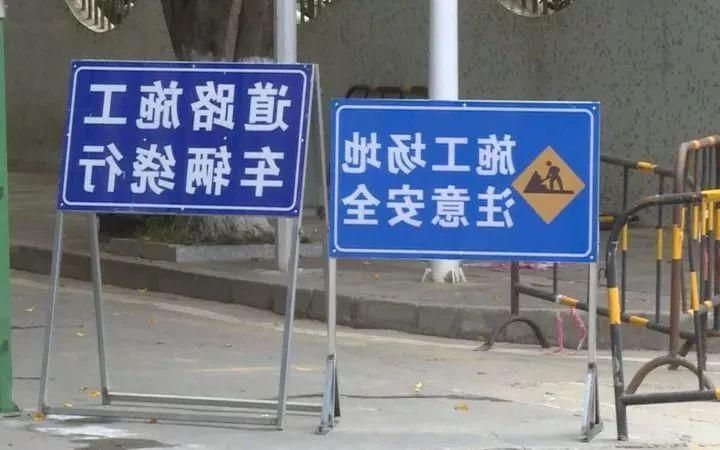sign: (334, 101, 594, 256), (64, 63, 307, 213)
